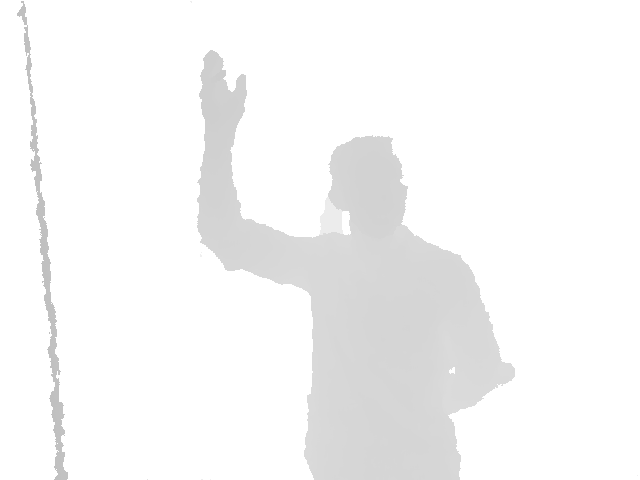hand: (199, 49, 248, 137)
head: (327, 136, 409, 237)
person: (195, 49, 517, 480)
